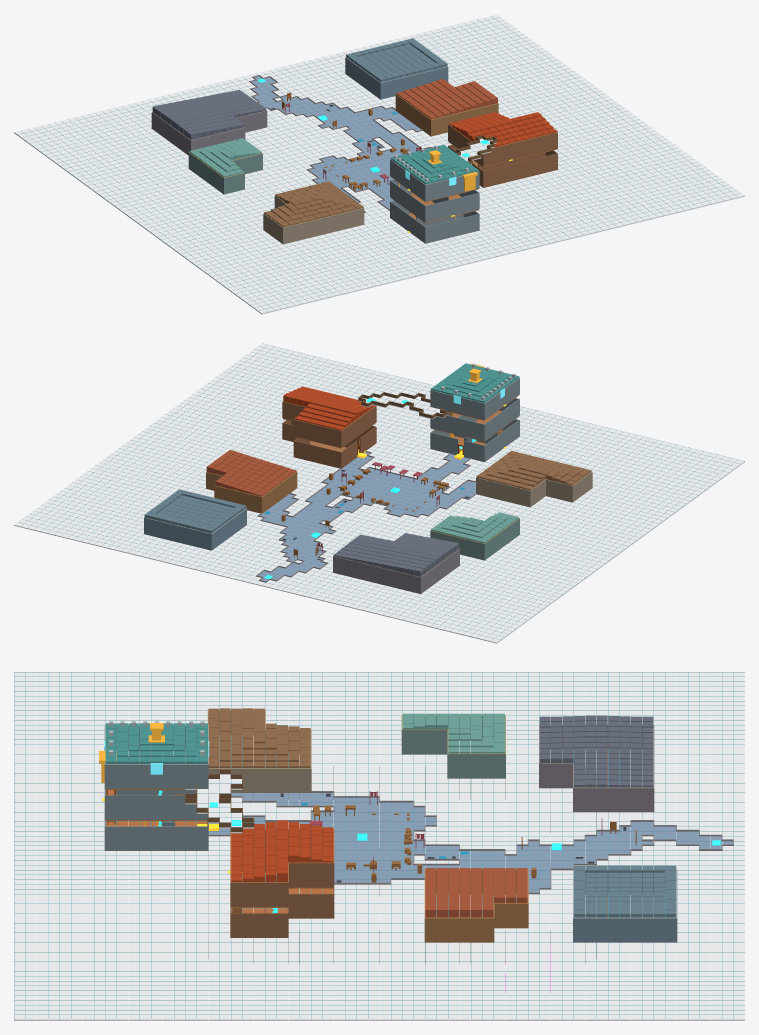
The picture shows the model from 3 angles, top to bottom: view 1: azimuth 30°, elevation 25°; view 2: azimuth 150°, elevation 25°; view 3: azimuth 270°, elevation 25°; orthographic projection. The views are drawn at different scales.
Visible parts, largest first — view 1: Surface_surface_ground, SurfaceGrid_surface_ground, Surface_surface_road, Roof_leaning_tenement_leaning_tenement_l1, Roof_ward_post_ward_post_l1, Roof_scribes_guild_scribes_guild_l1, Roof_locksmith_row_locksmith_row_l1, Roof_crooked_bell_inn_crooked_bell_inn_l2, Walls_old_clock_tower_l1_public, Walls_scribes_guild_l1_public, Walls_old_clock_tower_l2_public, Walls_crooked_bell_inn_l1_public (+10 smaller); view 2: Surface_surface_ground, SurfaceGrid_surface_ground, Surface_surface_road, Roof_leaning_tenement_leaning_tenement_l1, Roof_ward_post_ward_post_l1, Roof_scribes_guild_scribes_guild_l1, Roof_locksmith_row_locksmith_row_l1, Roof_crooked_bell_inn_crooked_bell_inn_l2, Walls_leaning_tenement_l1_public, Walls_scribes_guild_l1_public, Walls_crooked_bell_inn_l1_public, OldClockStreetCurbs (+12 smaller); view 3: Surface_surface_ground, SurfaceGrid_surface_ground, Surface_surface_road, Roof_leaning_tenement_leaning_tenement_l1, Roof_ward_post_ward_post_l1, Roof_scribes_guild_scribes_guild_l1, Roof_crooked_bell_inn_crooked_bell_inn_l2, Roof_locksmith_row_locksmith_row_l1, Roof_old_clock_tower_old_clock_tower_l3, Walls_leaning_tenement_l1_public, Roof_copper_shrine_copper_shrine_l1, OldClockStreetCurbs (+14 smaller).
Part boxes in pixels (box(x1,y1,x2,y2)): Surface_surface_ground: box(14, 14, 744, 314); SurfaceGrid_surface_ground: box(14, 16, 744, 313); Surface_surface_road: box(252, 76, 428, 209); Roof_leaning_tenement_leaning_tenement_l1: box(152, 89, 266, 140); Roof_ward_post_ward_post_l1: box(346, 38, 447, 82); Roof_scribes_guild_scribes_guild_l1: box(264, 181, 363, 227); Roof_locksmith_row_locksmith_row_l1: box(396, 79, 497, 119); Roof_crooked_bell_inn_crooked_bell_inn_l2: box(449, 112, 557, 147); Walls_old_clock_tower_l1_public: box(390, 200, 479, 243); Walls_scribes_guild_l1_public: box(263, 196, 364, 244); Walls_old_clock_tower_l2_public: box(390, 179, 479, 222); Walls_crooked_bell_inn_l1_public: box(448, 145, 557, 187); Surface_surface_ground: box(14, 343, 744, 643); SurfaceGrid_surface_ground: box(19, 343, 744, 642); Surface_surface_road: box(258, 452, 475, 581); Roof_leaning_tenement_leaning_tenement_l1: box(333, 533, 459, 576); Roof_ward_post_ward_post_l1: box(144, 489, 246, 533); Roof_scribes_guild_scribes_guild_l1: box(476, 450, 591, 490); Roof_locksmith_row_locksmith_row_l1: box(206, 450, 296, 496); Roof_crooked_bell_inn_crooked_bell_inn_l2: box(283, 386, 375, 430); Walls_leaning_tenement_l1_public: box(333, 549, 459, 593); Walls_scribes_guild_l1_public: box(476, 472, 592, 507); Walls_crooked_bell_inn_l1_public: box(282, 420, 376, 468); OldClockStreetCurbs: box(256, 450, 476, 582); Surface_surface_ground: box(14, 672, 744, 1020); SurfaceGrid_surface_ground: box(14, 672, 744, 1019); Surface_surface_road: box(208, 793, 733, 892); Roof_leaning_tenement_leaning_tenement_l1: box(539, 715, 653, 787); Roof_ward_post_ward_post_l1: box(574, 865, 676, 917); Roof_scribes_guild_scribes_guild_l1: box(208, 708, 310, 767); Roof_crooked_bell_inn_crooked_bell_inn_l2: box(231, 820, 333, 881); Roof_locksmith_row_locksmith_row_l1: box(425, 868, 527, 917); Roof_old_clock_tower_old_clock_tower_l3: box(105, 723, 207, 763); Walls_leaning_tenement_l1_public: box(539, 725, 654, 812); Roof_copper_shrine_copper_shrine_l1: box(402, 713, 504, 753); OldClockStreetCurbs: box(208, 791, 733, 894).
Size of the model in its own units: 71.99 by 13.32 by 63.99.
